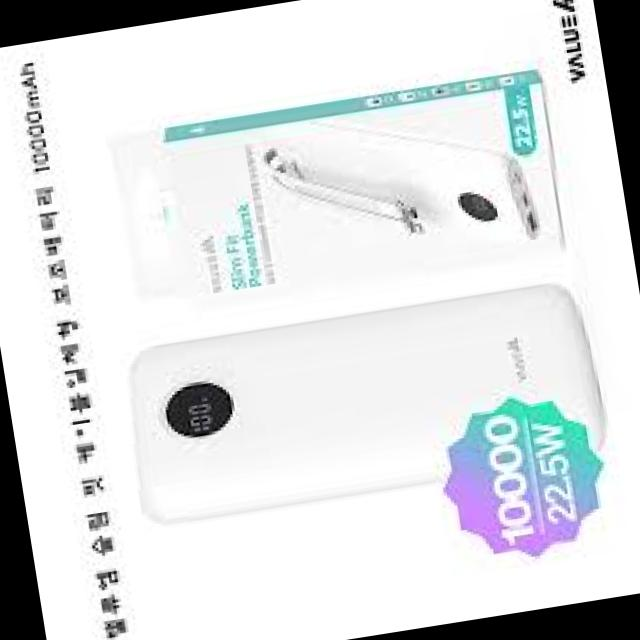portable-charger: (114, 275, 609, 533), (255, 102, 538, 275)
